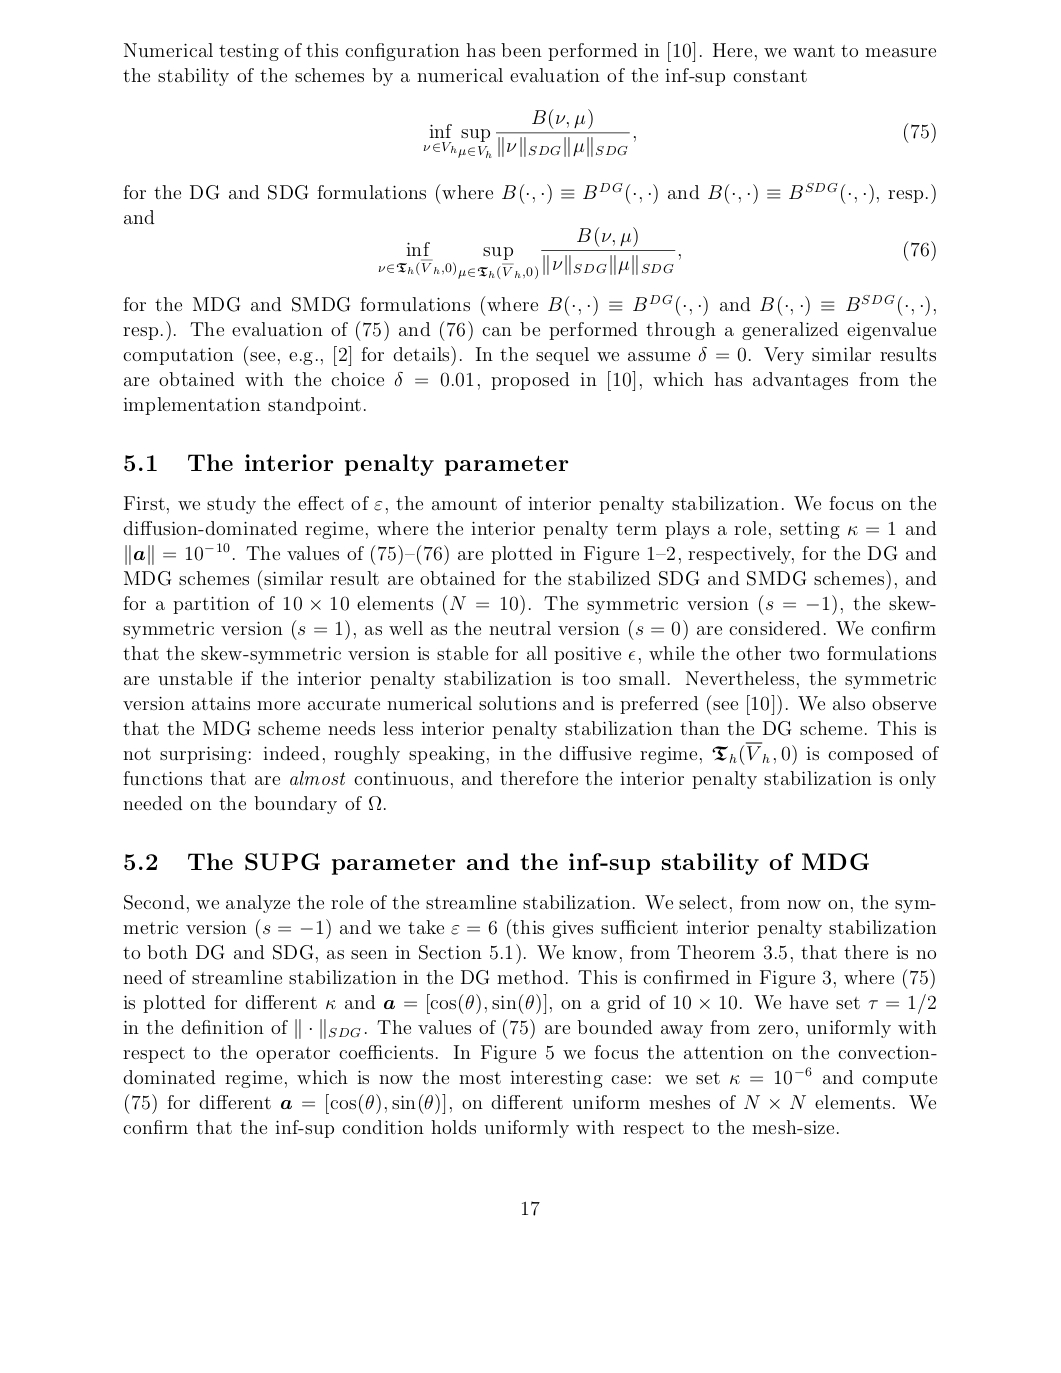formula: (378, 227, 935, 279), (424, 108, 935, 158)
